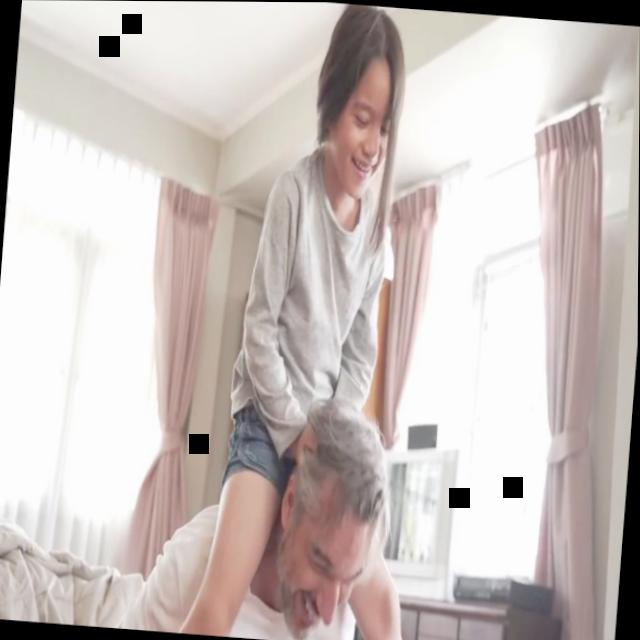NO-Mask: (274, 479, 372, 640), (327, 66, 396, 202)
